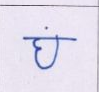anusvara: (45, 27, 48, 29)
